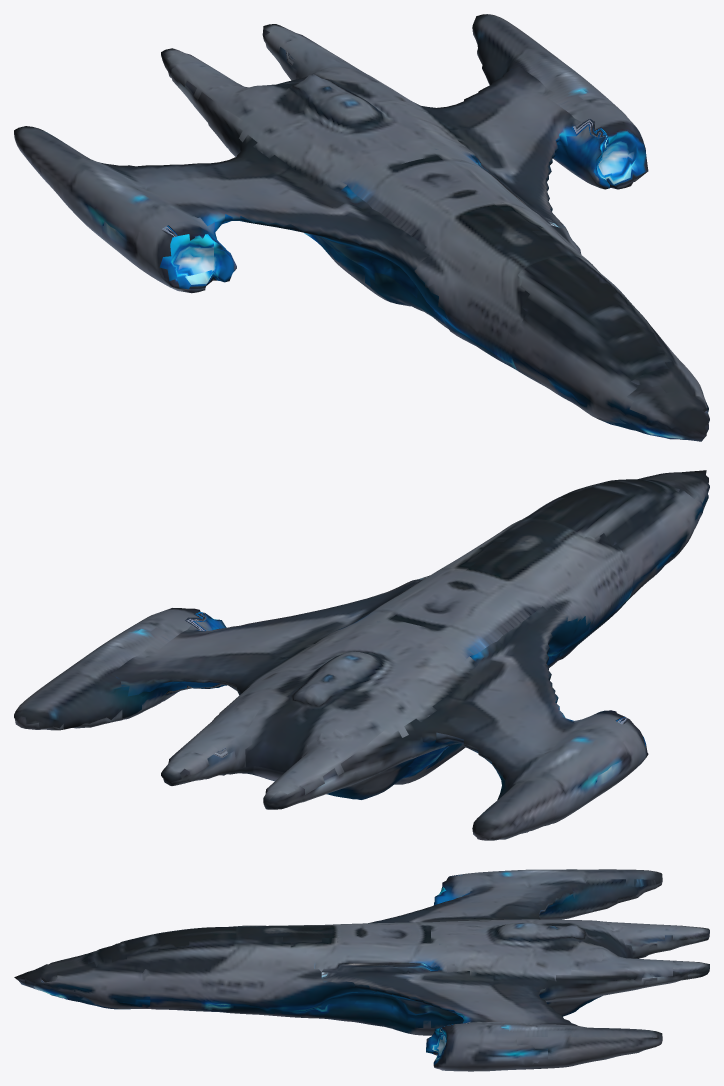
The model's file is alliance_courier.remesh.glb.
The picture shows the model from 3 angles, top to bottom: view 1: azimuth 30°, elevation 25°; view 2: azimuth 150°, elevation 25°; view 3: azimuth 270°, elevation 25°; orthographic projection. The views are drawn at different scales.
Parts seen in each view (by area): view 1: model; view 2: model; view 3: model.
Boxes of the visible parts, left/top/right/bottom form: model: left=14, top=14, right=709, bottom=441; model: left=14, top=470, right=709, bottom=840; model: left=14, top=869, right=709, bottom=1071.
Bounding box in the file's own units: 1.1 × 0.3021 × 1.87.
Materials: 1 (1 with a texture image).
